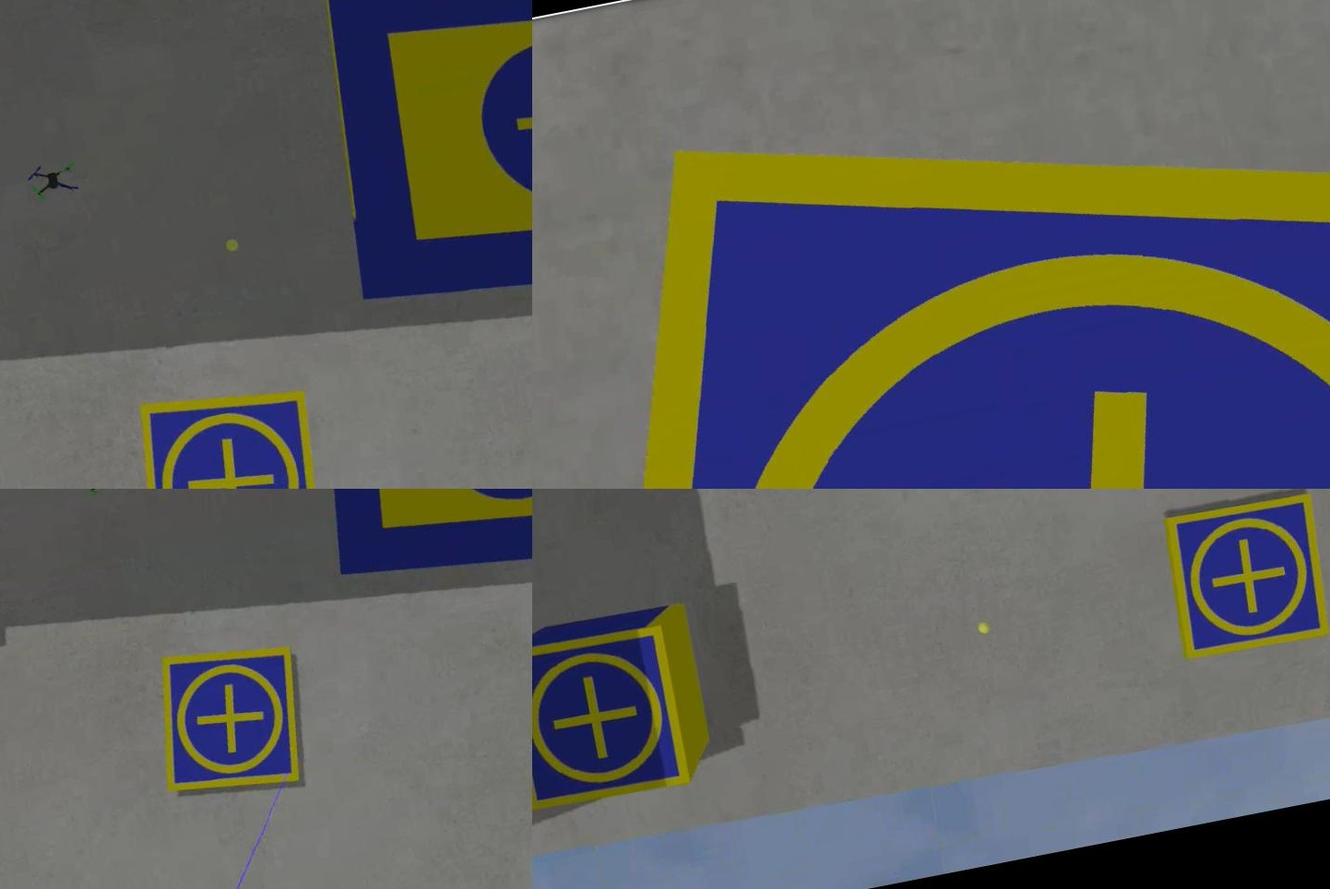large_base: (303, 1, 531, 352)
small_base: (531, 1, 1328, 490), (531, 620, 695, 817), (1155, 490, 1328, 667), (144, 634, 317, 810), (121, 369, 338, 490)
